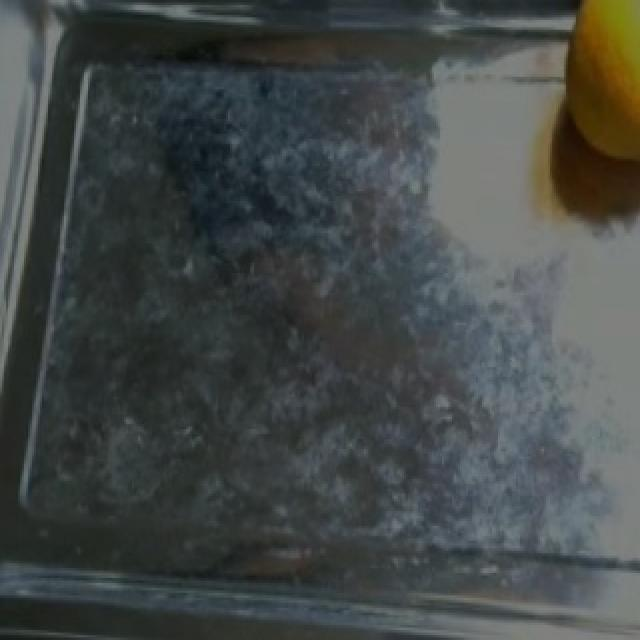Fruit: (542, 0, 640, 186)
